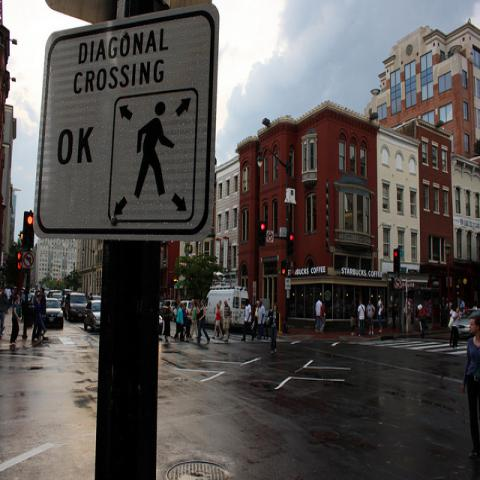car: (64, 293, 88, 323), (172, 300, 201, 322), (84, 300, 101, 332), (458, 309, 479, 334), (46, 299, 64, 326), (162, 300, 177, 320), (59, 295, 67, 310), (87, 296, 101, 304), (52, 293, 62, 299)
